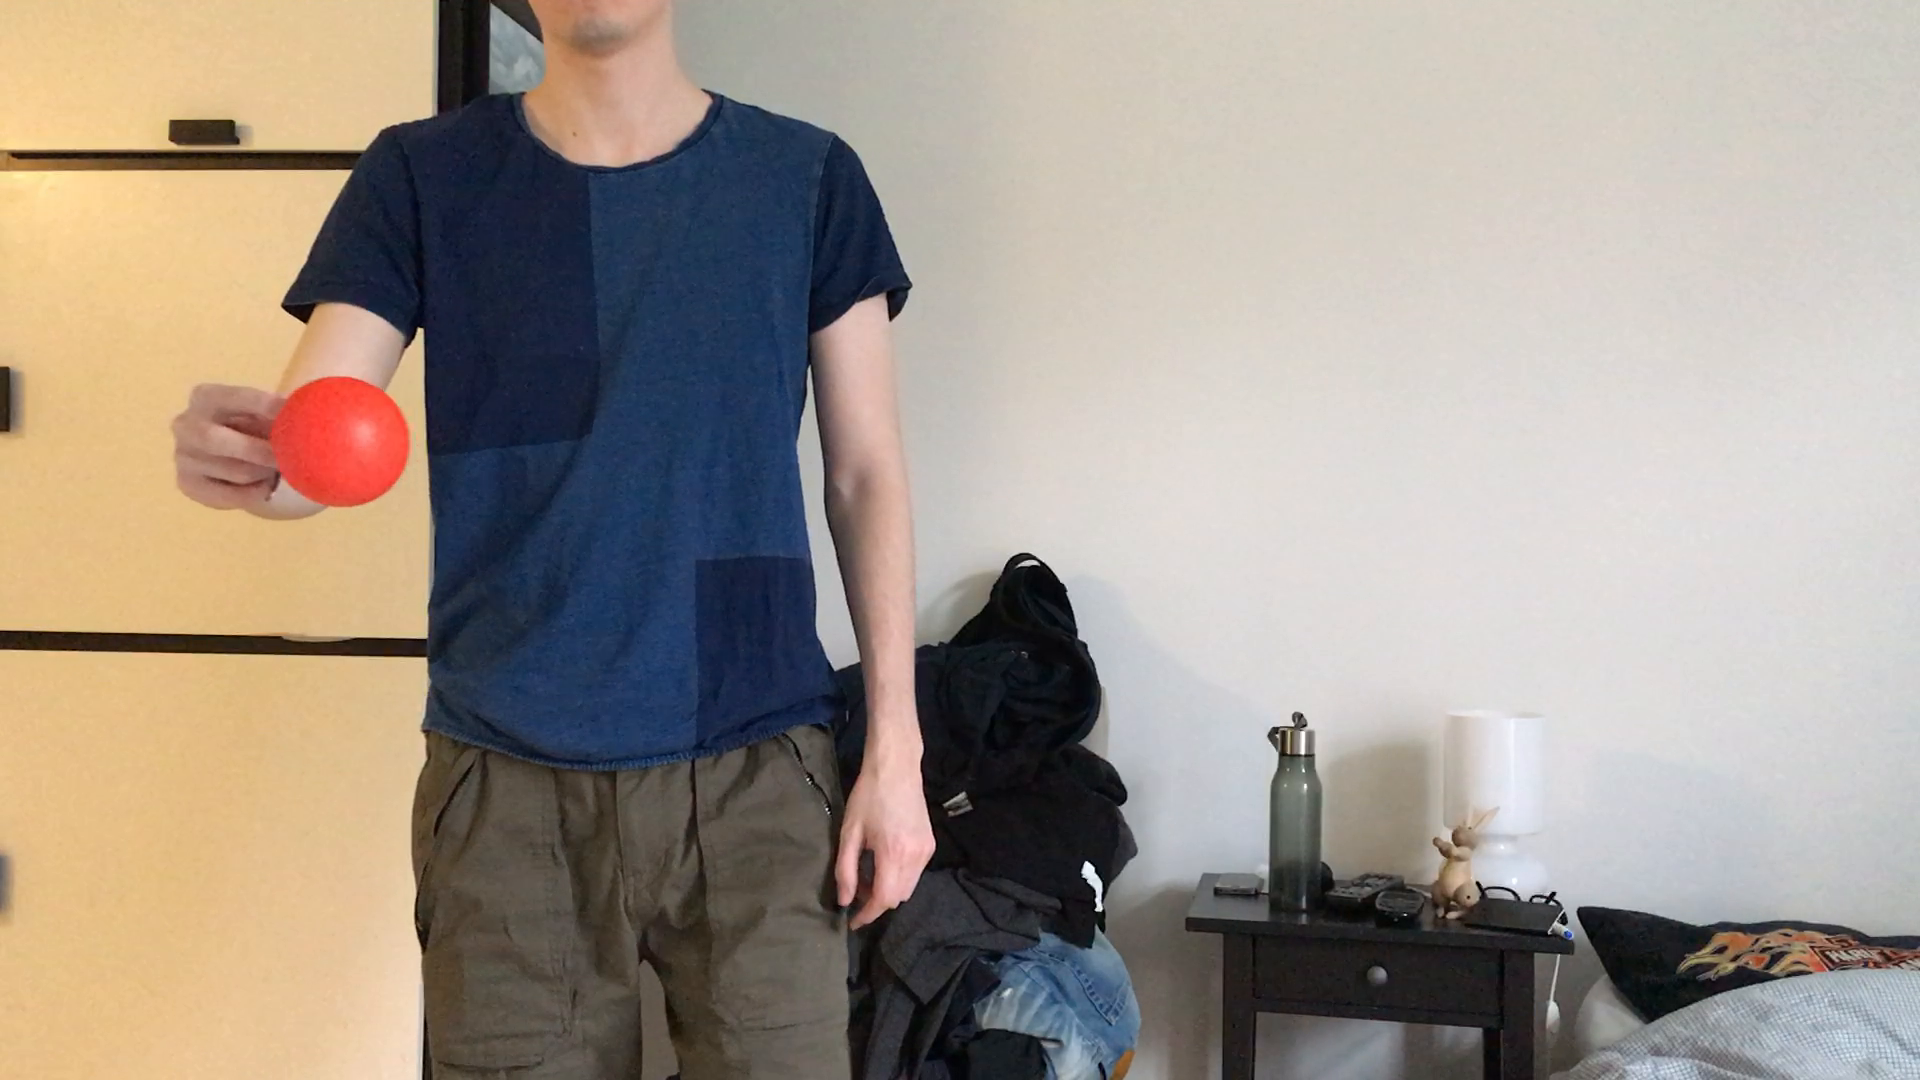Ball: (269, 376, 411, 509)
